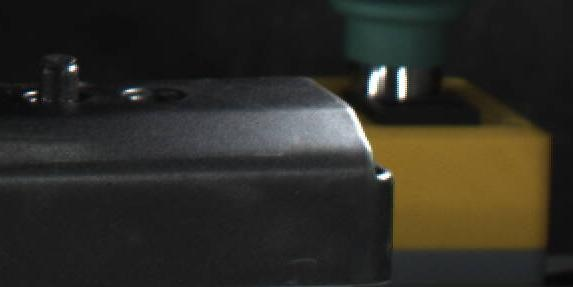screw: (34, 50, 83, 112)
